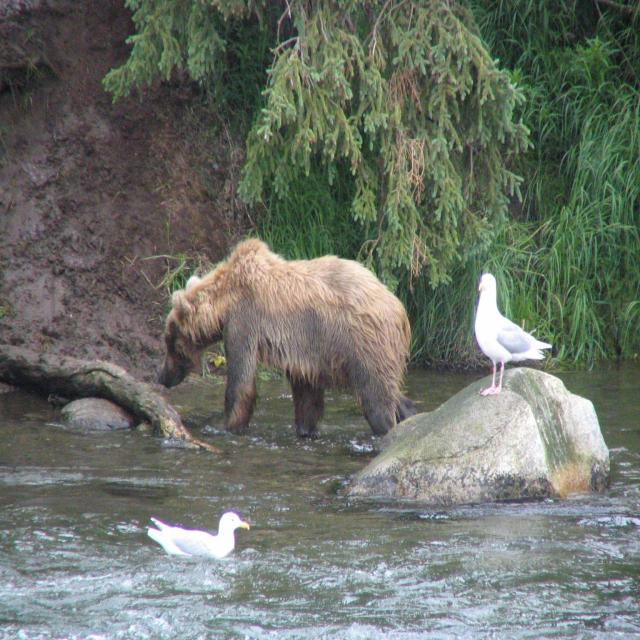bear face: (160, 238, 411, 434)
